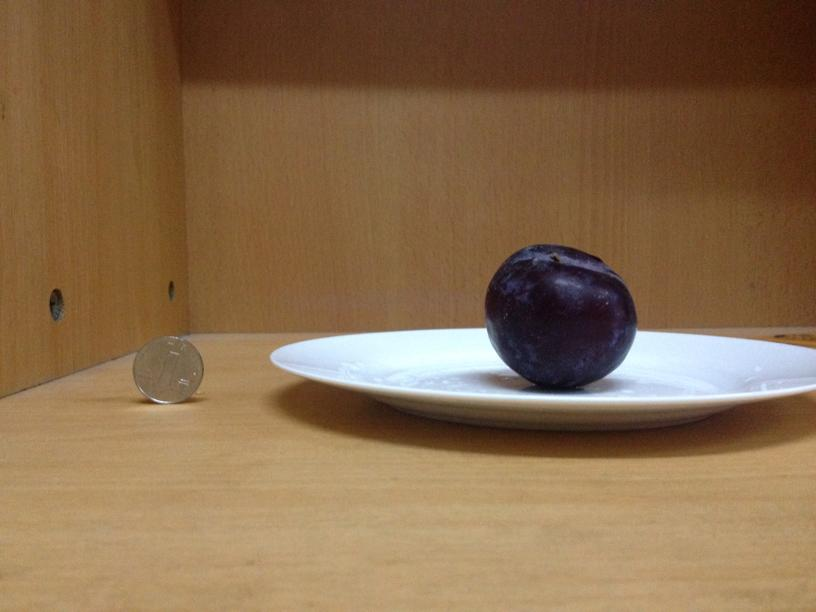coin: (133, 332, 202, 407)
plum: (477, 241, 642, 387)
